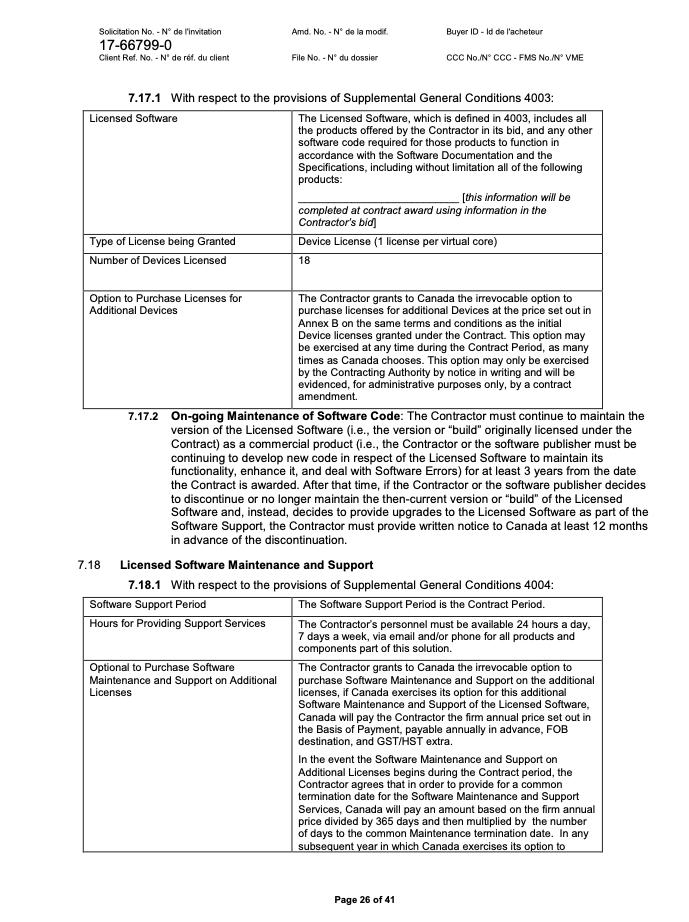tabulation: (74, 103, 606, 409), (78, 594, 607, 859)
